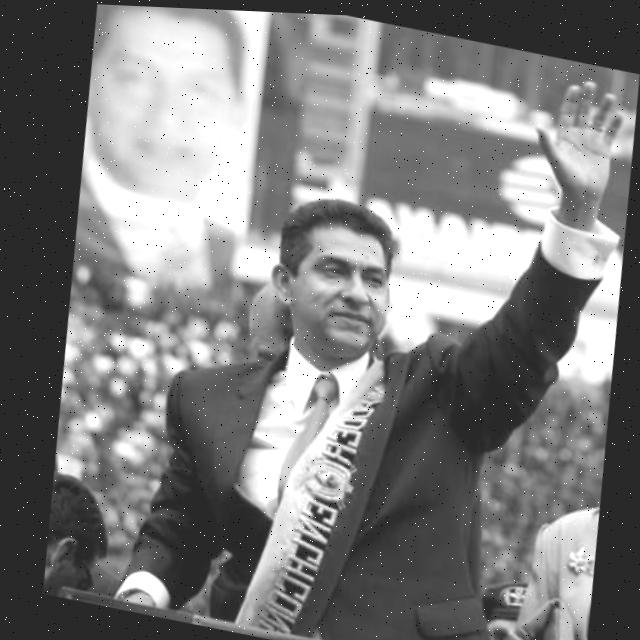face: (272, 196, 408, 368)
